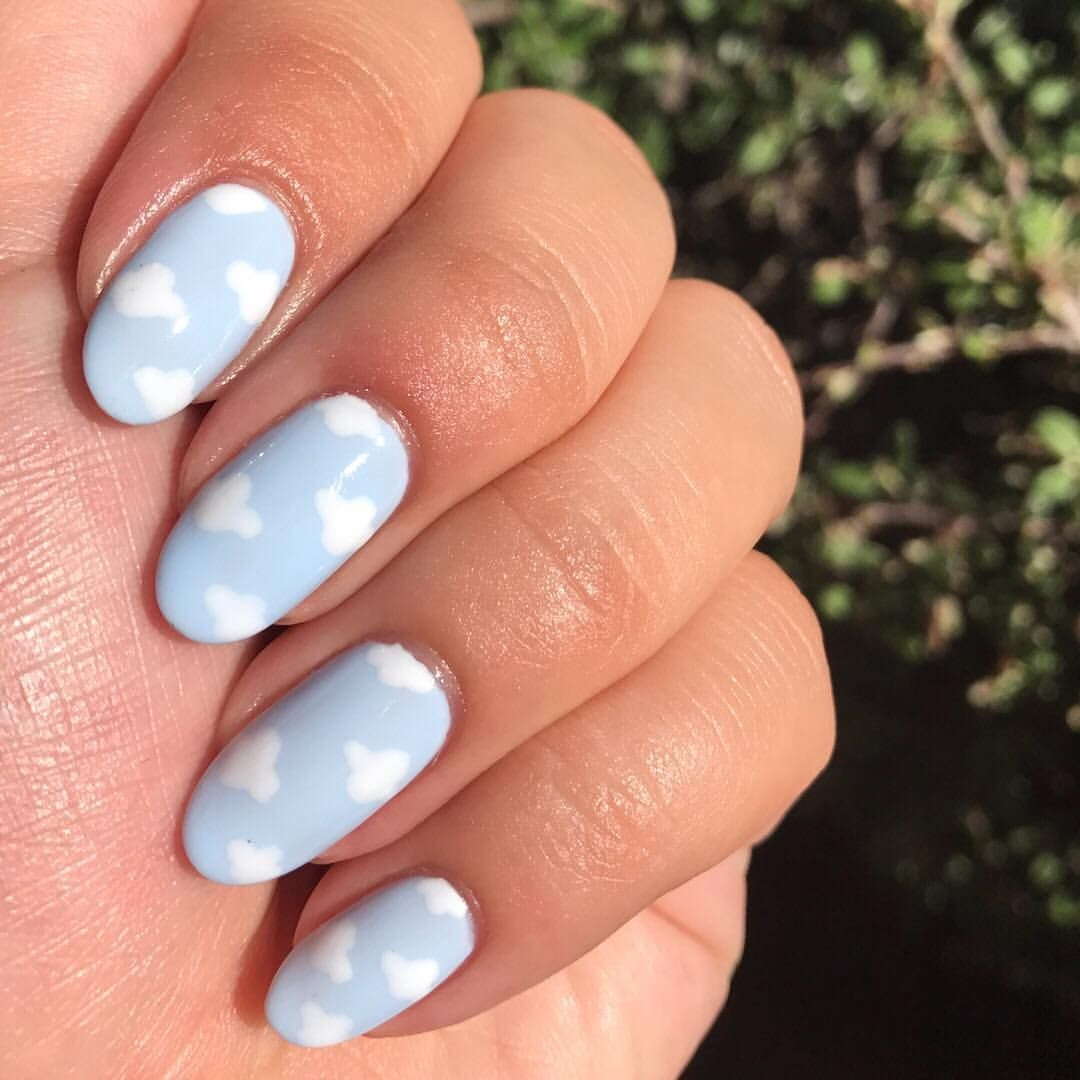nails: (174, 639, 458, 887), (147, 392, 408, 653), (73, 165, 301, 440), (257, 864, 483, 1054)
